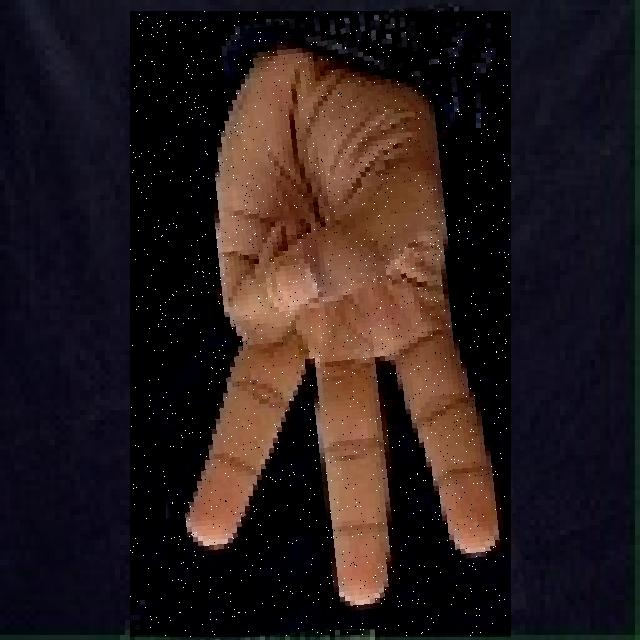Please: (130, 11, 511, 637)
